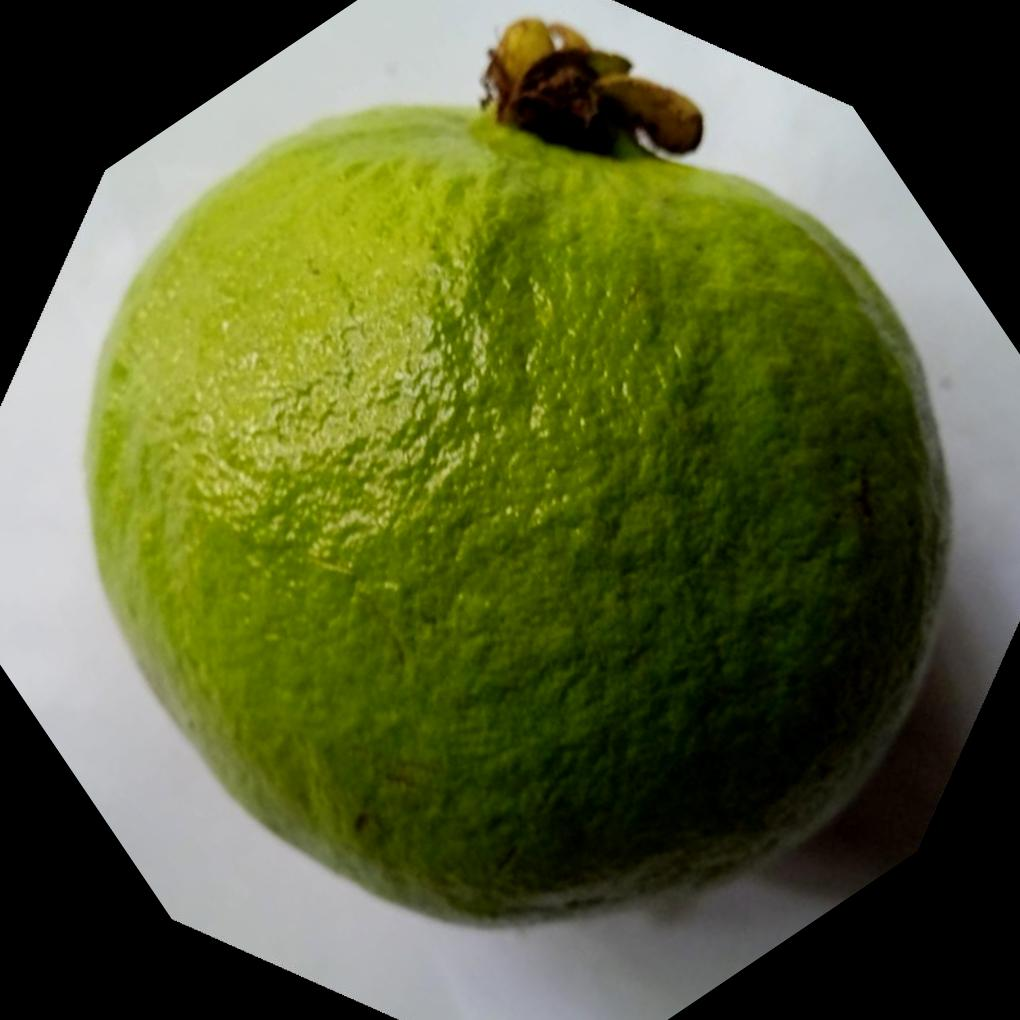FreshGuava: (80, 20, 952, 928)
